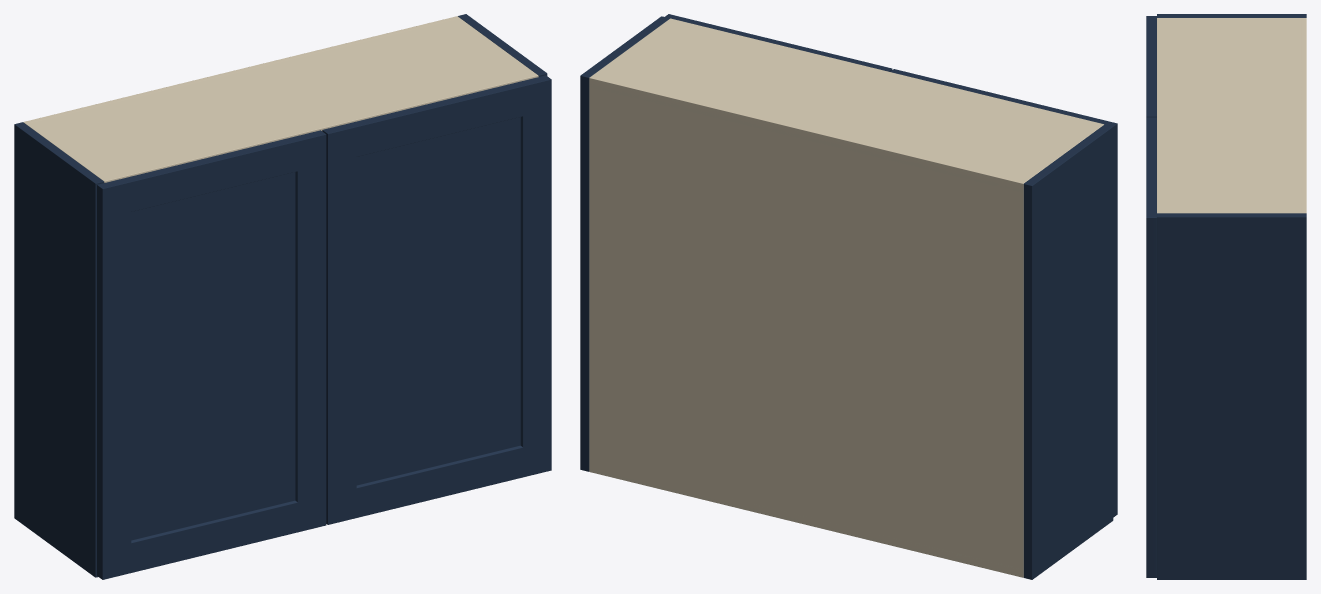
File: oppein-ply-bss-w3630.glb
3 renders of one model, left to right at view 1: azimuth 30°, elevation 25°; view 2: azimuth 150°, elevation 25°; view 3: azimuth 270°, elevation 25°, orthographic. The views are drawn at different scales.
Parts seen in each view (by area): view 1: Door, Door.001, Cabinet top, Cabinet side, Cabinet back, Cabinet side.001; view 2: Cabinet back, Cabinet top, Cabinet side, Cabinet side.001, Door, Cabinet bottom, Door.001; view 3: Cabinet side.001, Cabinet top, Door.001, Cabinet back, Door, Cabinet side.
Boxes of the visible parts, <box> form: Door: <box>97,130,326,579</box>; Door.001: <box>322,75,551,524</box>; Cabinet top: <box>23,18,538,182</box>; Cabinet side: <box>14,122,104,577</box>; Cabinet back: <box>24,16,459,124</box>; Cabinet side.001: <box>458,14,547,76</box>; Cabinet back: <box>589,75,1026,577</box>; Cabinet top: <box>589,18,1103,192</box>; Cabinet side: <box>1023,124,1113,579</box>; Cabinet side.001: <box>580,16,669,471</box>; Door: <box>890,69,1117,517</box>; Cabinet bottom: <box>589,467,1023,577</box>; Door.001: <box>665,14,892,71</box>; Cabinet side.001: <box>1157,213,1306,579</box>; Cabinet top: <box>1157,18,1306,213</box>; Door.001: <box>1146,117,1156,577</box>; Cabinet back: <box>1300,18,1306,213</box>; Door: <box>1146,16,1156,117</box>; Cabinet side: <box>1157,14,1306,17</box>.
Bounding box in the file's own units: 0.9144 × 0.762 × 0.3048.
